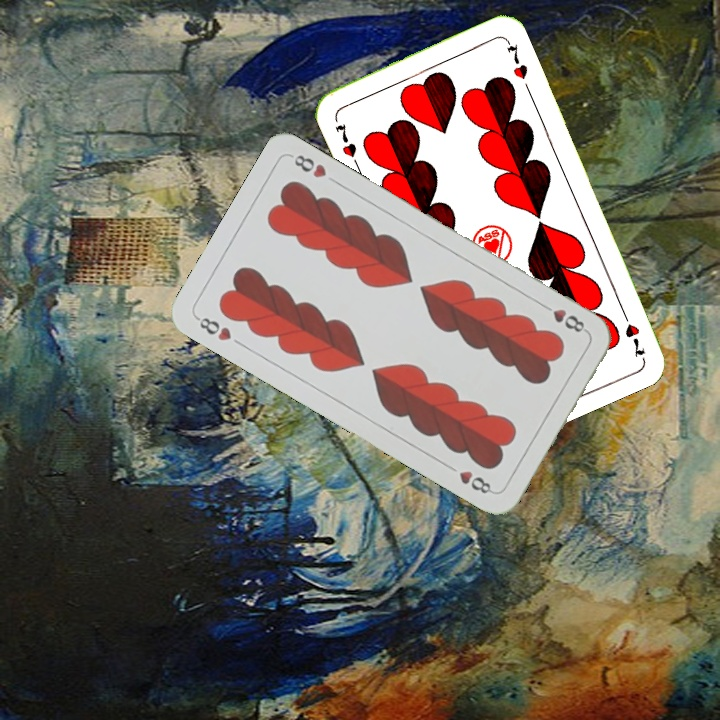H7: (617, 304, 648, 360), (331, 119, 359, 160)
H8: (537, 299, 590, 335), (192, 313, 234, 344)
